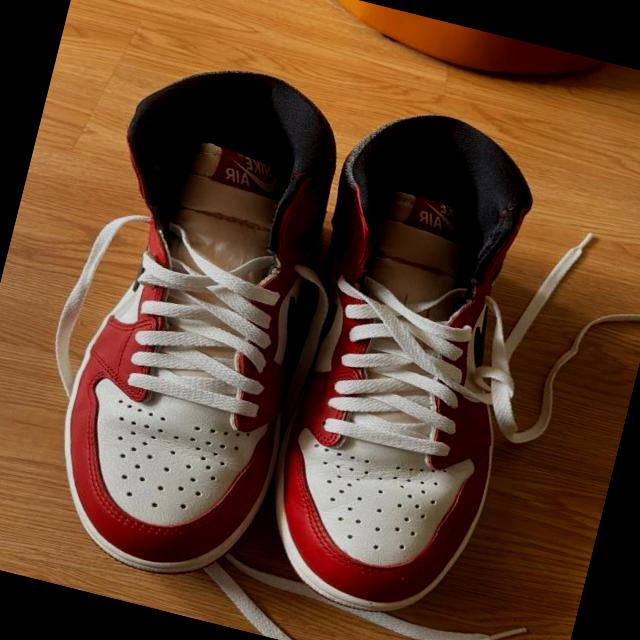nike_original_jordan: (20, 44, 372, 594), (232, 92, 575, 639)
